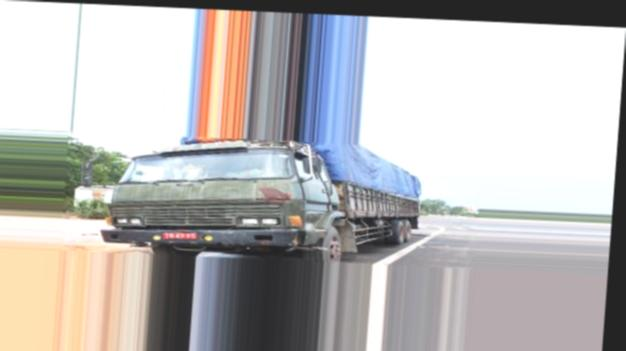License_Plate: (161, 227, 202, 247)
